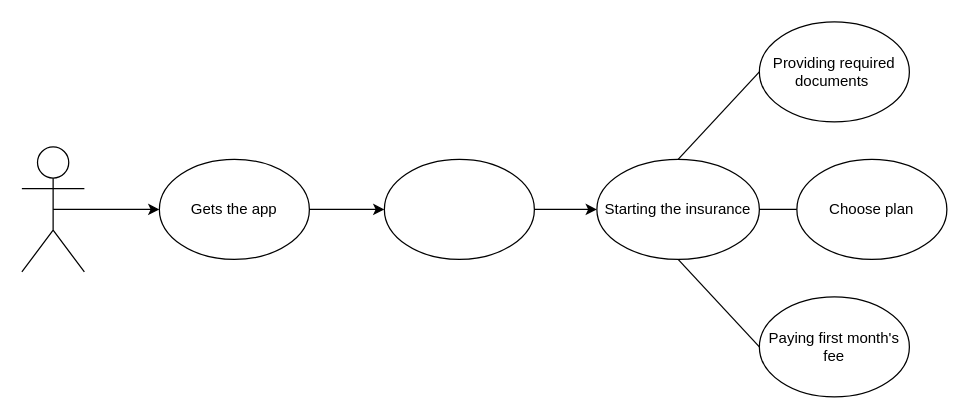
This 969x419 diagram has some shape labels left out. Each missing label, with the centre of its shape:
Connects his/her wallet: point 458,208
User: point 52,209
